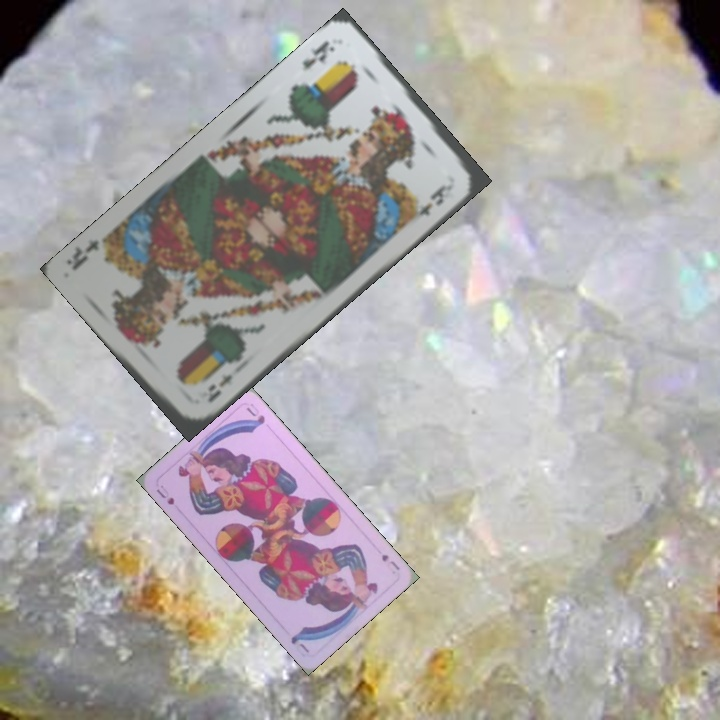EK: (298, 36, 337, 73), (203, 369, 235, 405)
SU: (152, 481, 177, 508), (378, 550, 403, 573)
